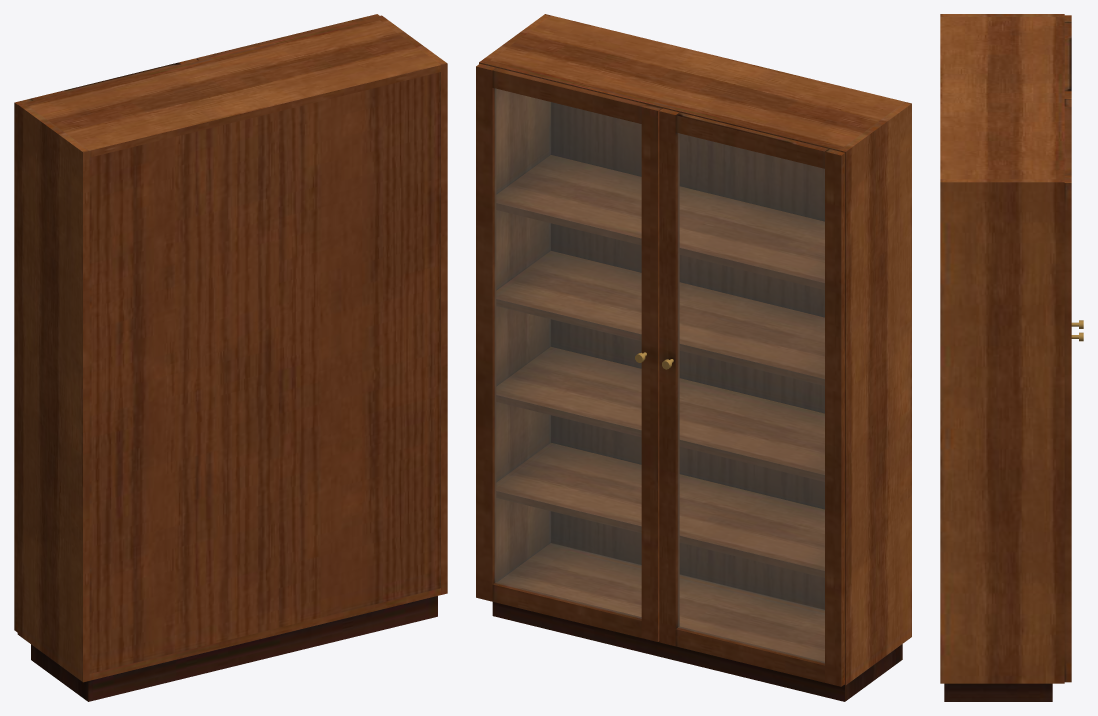
File: bookcase_glass_doors_web.glb
The picture shows the model from 3 angles, left to right: view 1: azimuth 30°, elevation 25°; view 2: azimuth 150°, elevation 25°; view 3: azimuth 270°, elevation 25°; orthographic projection. The views are drawn at different scales.
Visible parts, largest first — view 1: BookcaseGlassDoors_Body, Door_1_R_Mesh; view 2: BookcaseGlassDoors_Body, Glass_Door_1_R, Glass_Door_1_L, Door_1_R_Mesh, Door_1_L_Mesh; view 3: BookcaseGlassDoors_Body, Door_1_L_Mesh, Door_1_R_Mesh.
Boxes of the visible parts, x1,y1,x2,y2 form: BookcaseGlassDoors_Body: [17, 15, 447, 701]; Door_1_R_Mesh: [14, 58, 197, 632]; BookcaseGlassDoors_Body: [479, 14, 911, 701]; Glass_Door_1_R: [678, 133, 824, 662]; Glass_Door_1_L: [495, 88, 641, 618]; Door_1_R_Mesh: [659, 108, 844, 686]; Door_1_L_Mesh: [476, 64, 661, 641]; BookcaseGlassDoors_Body: [940, 14, 1064, 701]; Door_1_L_Mesh: [1064, 99, 1071, 682]; Door_1_R_Mesh: [1064, 15, 1071, 99].
Bounding box in the file's own units: 1 × 1.45 × 0.3599.
3 materials, 2 textured.
